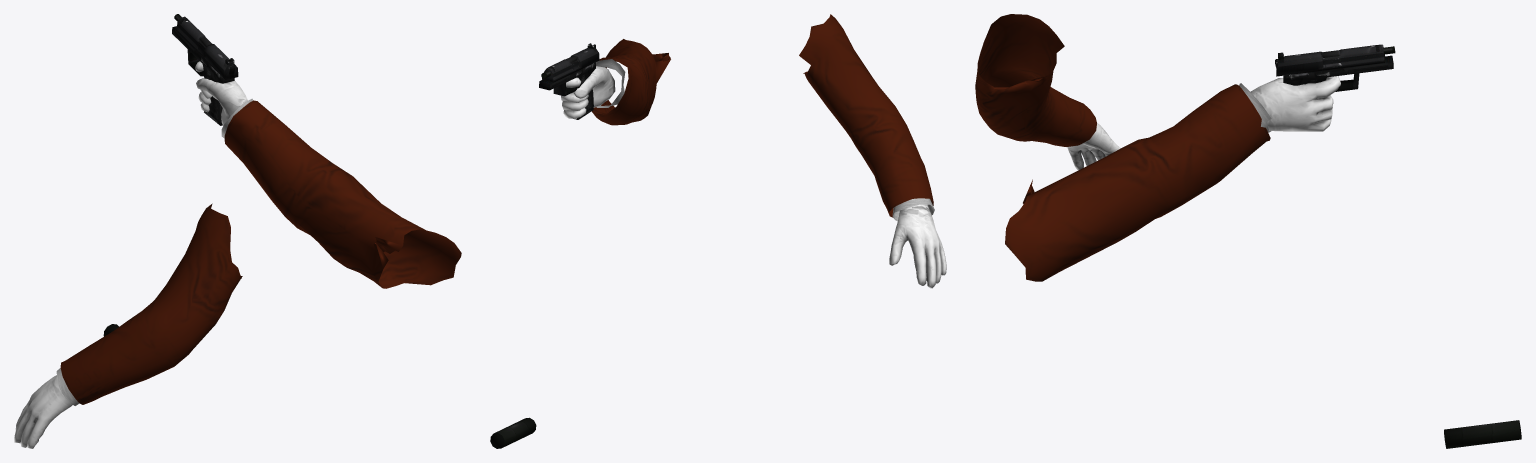
Rendered from frame_0005.obj.
3 views of the same model, side by side, from view 1: azimuth 30°, elevation 25°; view 2: azimuth 150°, elevation 25°; view 3: azimuth 270°, elevation 25° (orthographic). The views are drawn at different scales.
Parts seen in each view (by area): view 1: PlayerModelMerged.001_PlayerModelMerged, glock_reference.001; view 2: PlayerModelMerged.001_PlayerModelMerged, glock_reference.001; view 3: PlayerModelMerged.001_PlayerModelMerged, glock_reference.001.
Part boxes in pixels (box(x1,y1,x2,y2)): PlayerModelMerged.001_PlayerModelMerged: box(14, 61, 461, 448); glock_reference.001: box(103, 14, 238, 336); PlayerModelMerged.001_PlayerModelMerged: box(561, 14, 946, 288); glock_reference.001: box(490, 43, 599, 448); PlayerModelMerged.001_PlayerModelMerged: box(975, 14, 1340, 281); glock_reference.001: box(1275, 44, 1521, 448).
Bounding box in the file's own units: 1.15 × 1.03 × 1.25.
